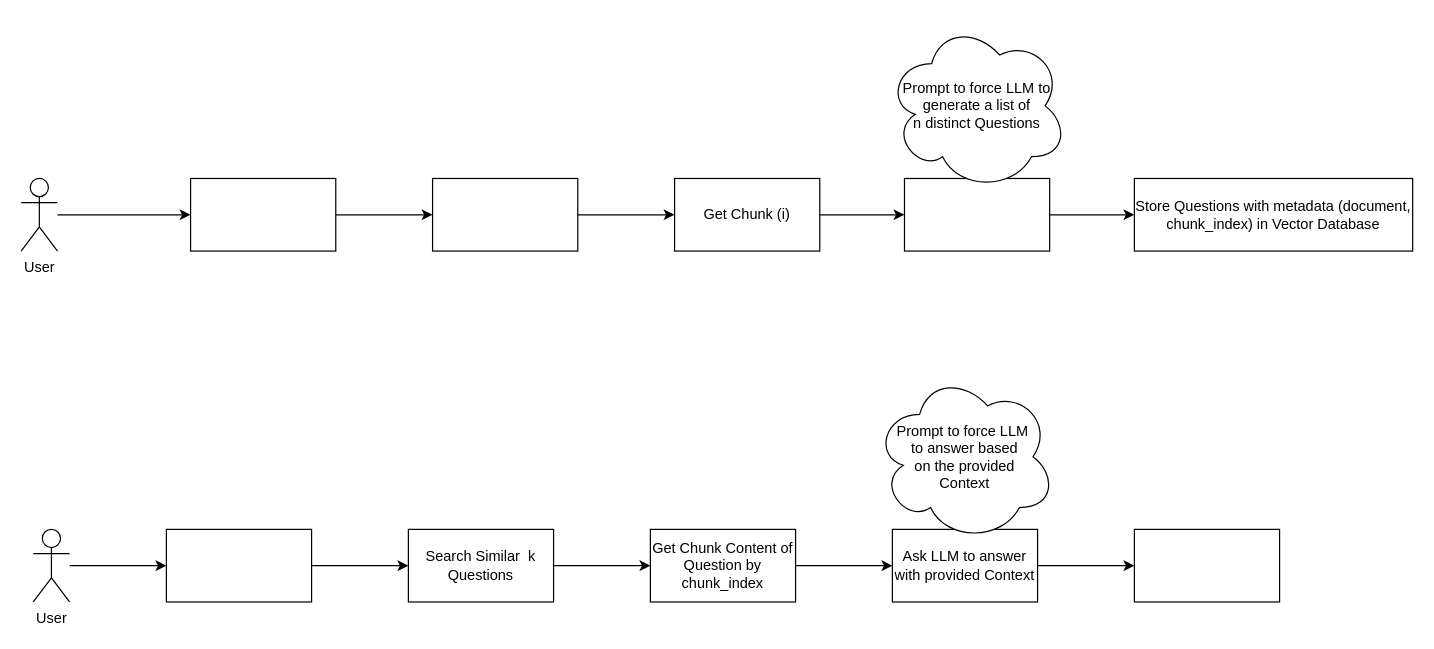
The diagram is 1434 pixels wide and 649 high, and some of its shapes have lost their labels. The shapes that lost their labels are listed below. From the top down, each one's centre as x and y in pixels, then its label:
At (262,214): "Upload Document".
At (504,214): "Chunk Document By Coherent Chunks".
At (976,214): "Generate n Questions From LLM".
At (238,565): "Question".
At (1206,565): "Provide Answer".
